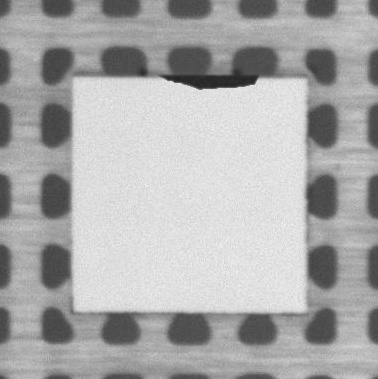DIE_BROKEN: (158, 70, 261, 92)
